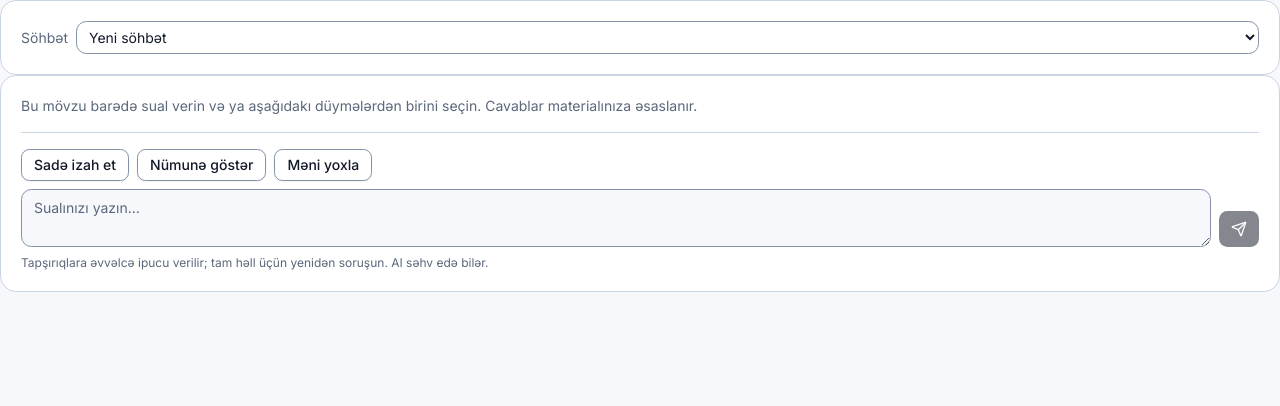
it: Soruş tab › renders NOT_FOUND and empty cites
Select "Prosessor · 12.10.2026, 10:00" in the dropdown labelled "Söhbət" at (668, 38), box [76,21,1259,54]
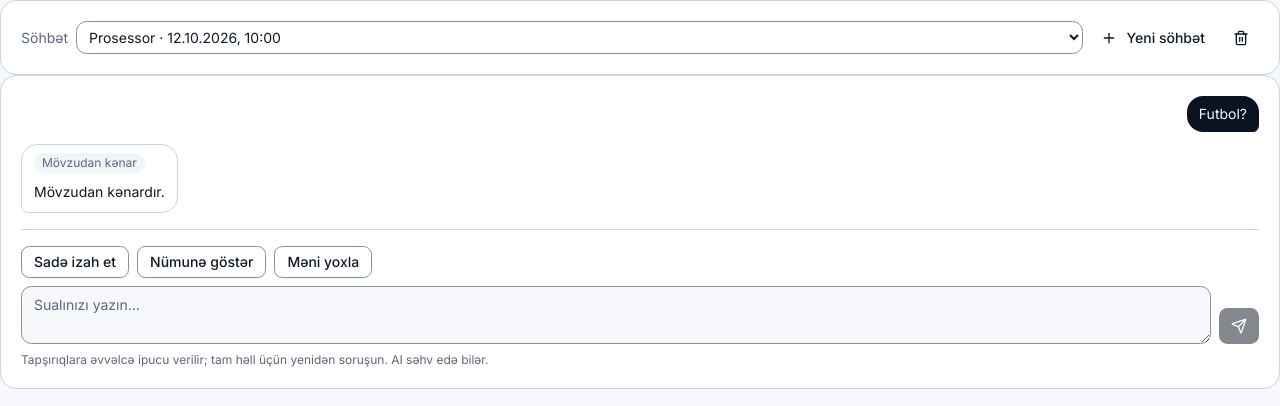
Check: the text "Mövzudan kənar" is shown, box [34,153,145,173]
